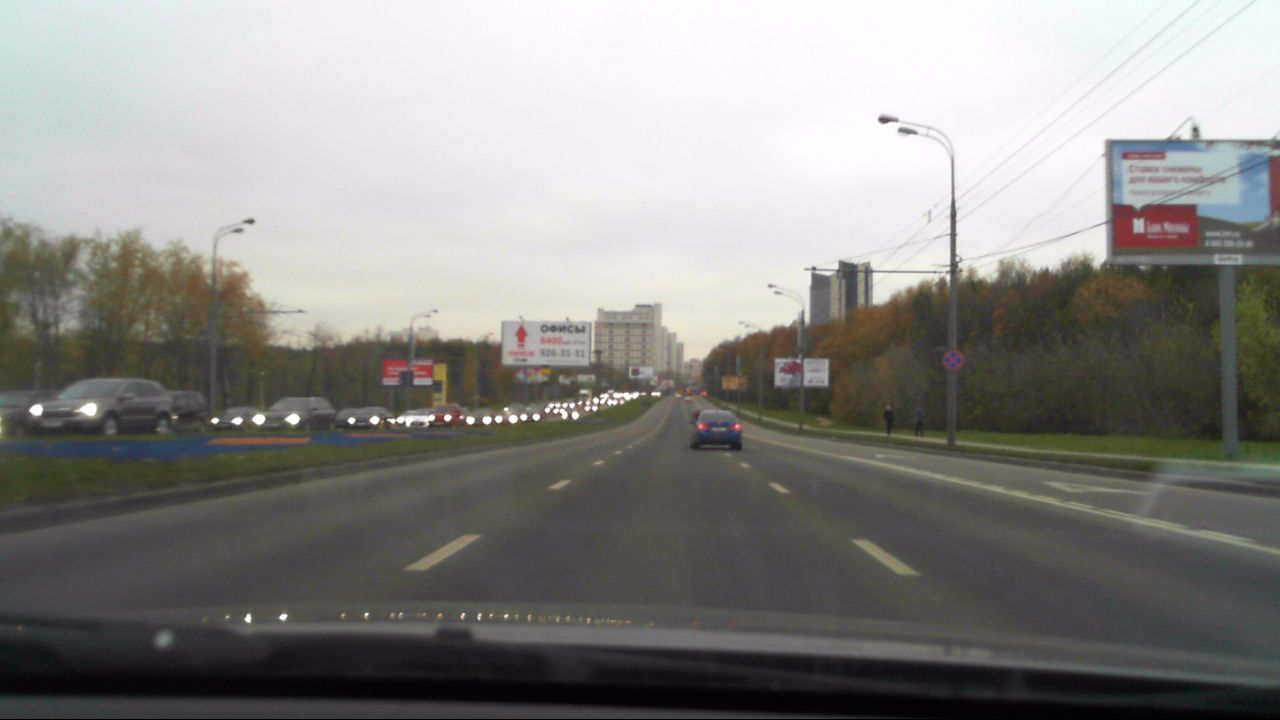No Parking: (942, 349, 963, 369)
